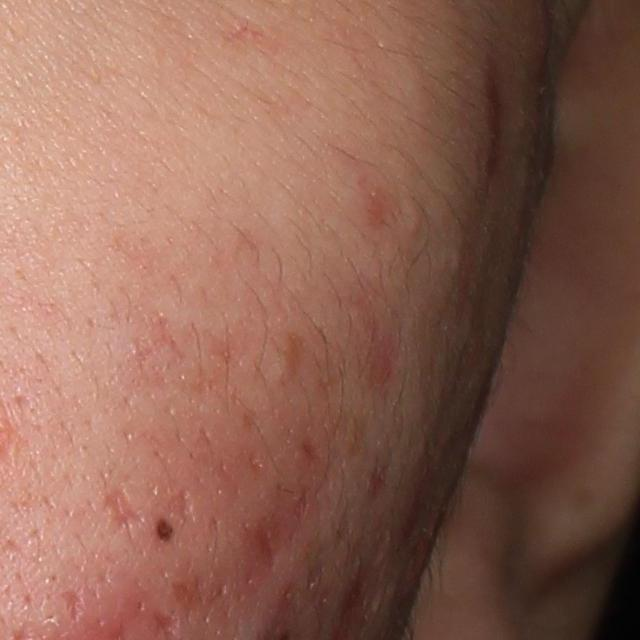atrophic_scar: (167, 574, 234, 623), (246, 513, 286, 570), (103, 489, 140, 539), (164, 485, 199, 527), (58, 587, 85, 623)
nevus: (153, 513, 183, 544)
